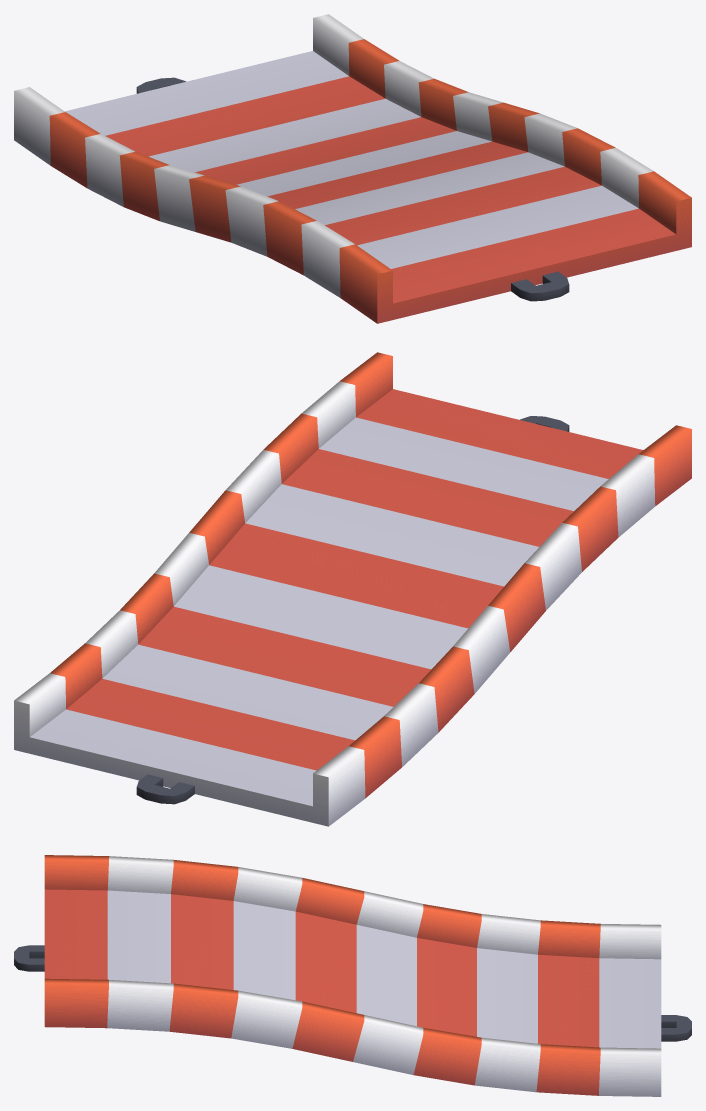
Rendered from track-striped-wide-straight-hill-complete-half.glb.
The picture shows the model from 3 angles, top to bottom: view 1: azimuth 30°, elevation 25°; view 2: azimuth 150°, elevation 25°; view 3: azimuth 270°, elevation 25°; orthographic projection. The views are drawn at different scales.
Parts seen in each view (by area): view 1: track-striped-wide-straight-hill-complete-half; view 2: track-striped-wide-straight-hill-complete-half; view 3: track-striped-wide-straight-hill-complete-half.
Part boxes in pixels (x1=…): track-striped-wide-straight-hill-complete-half: x1=14, y1=14, x2=691, y2=323; track-striped-wide-straight-hill-complete-half: x1=14, y1=352, x2=691, y2=826; track-striped-wide-straight-hill-complete-half: x1=14, y1=855, x2=691, y2=1096.
Size of the model in its own units: 6 by 2.4 by 13.2.
Materials: 1 (1 with a texture image).
